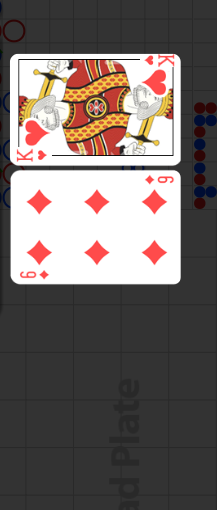6D: (143, 174, 175, 186)
KH: (143, 54, 176, 67)
